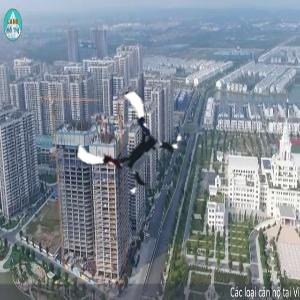drone: (83, 100, 176, 193)
